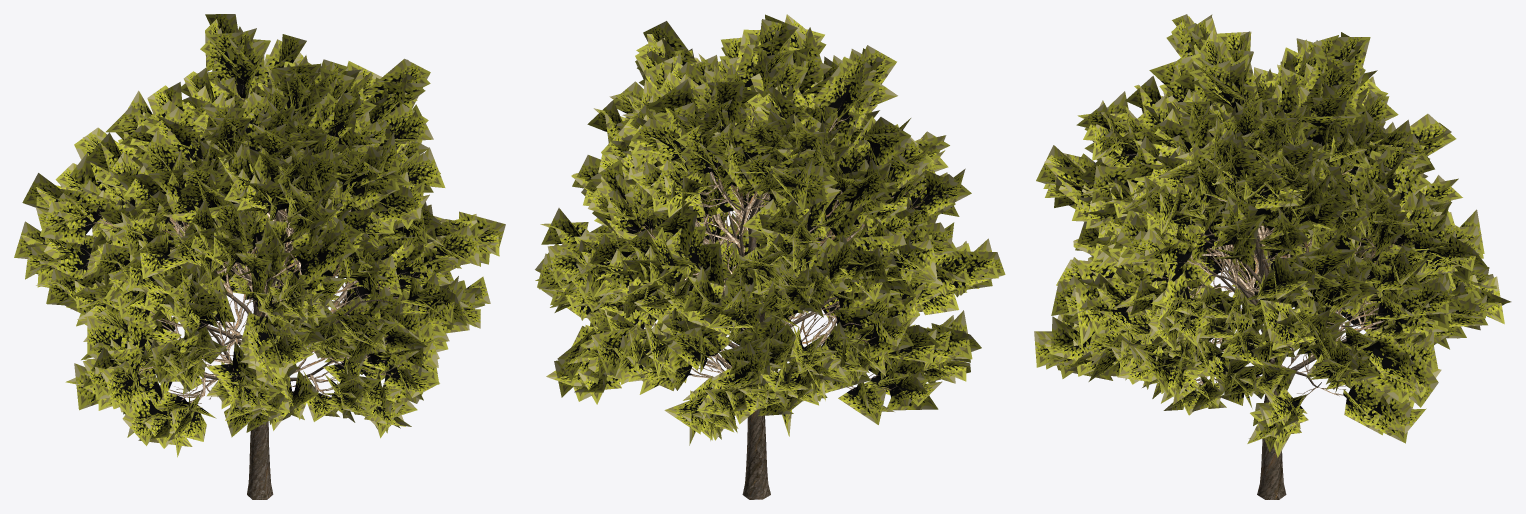
The model's file is tree-a.glb.
3 renders of one model, left to right at view 1: azimuth 30°, elevation 25°; view 2: azimuth 150°, elevation 25°; view 3: azimuth 270°, elevation 25°, orthographic. The views are drawn at different scales.
Parts seen in each view (by area): view 1: Leaf_6.001; view 2: Leaf_6.001; view 3: Leaf_6.001.
Boxes of the visible parts, box(x1,y1,x2,y2) form: Leaf_6.001: box(14, 14, 505, 499); Leaf_6.001: box(535, 14, 1005, 499); Leaf_6.001: box(1034, 14, 1511, 499).
Bounding box in the file's own units: 4.61 × 5.14 × 4.82.
3 materials, 3 textured.
